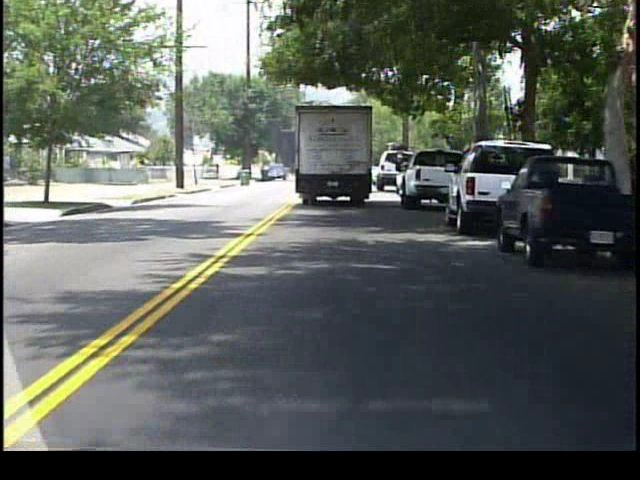person: (216, 163, 223, 182)
